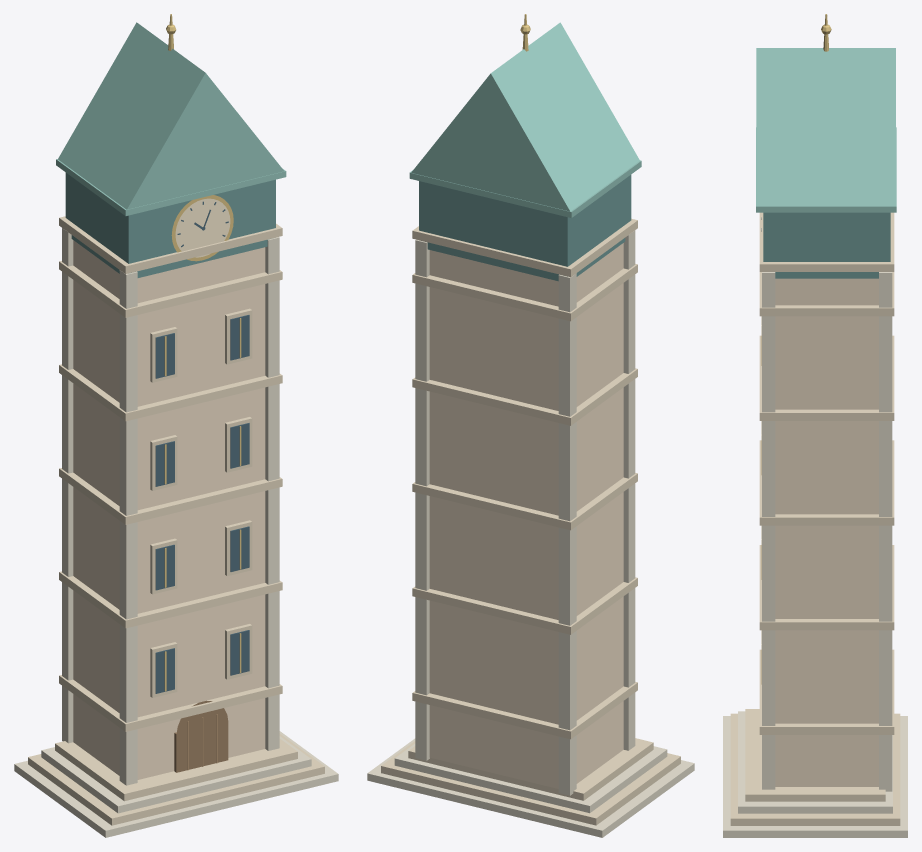
The model's file is OutletClockTower.glb.
3 renders of one model, left to right at view 1: azimuth 30°, elevation 25°; view 2: azimuth 150°, elevation 25°; view 3: azimuth 270°, elevation 25°, orthographic.
Parts seen in each view (by area): view 1: OutletClockTower; view 2: OutletClockTower; view 3: OutletClockTower.
Boxes of the visible parts, left/top/right/bottom form: OutletClockTower: left=14, top=14, right=338, bottom=837; OutletClockTower: left=367, top=14, right=694, bottom=837; OutletClockTower: left=723, top=14, right=907, bottom=837.
Bounding box in the file's own units: 10.6 × 32.95 × 7.2.
